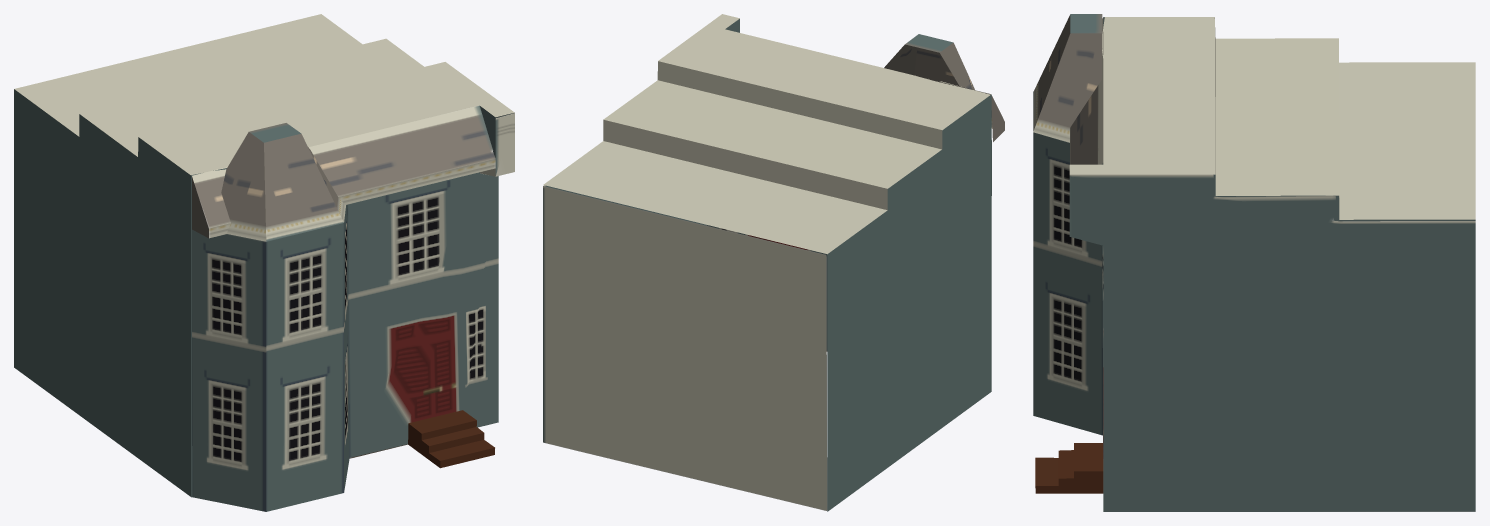
Rendered from House.fbx.
The picture shows the model from 3 angles, left to right: view 1: azimuth 30°, elevation 25°; view 2: azimuth 150°, elevation 25°; view 3: azimuth 270°, elevation 25°; orthographic projection. The views are drawn at different scales.
Visible parts, largest first — view 1: Cube; view 2: Cube; view 3: Cube.
Part boxes in pixels (bbox=[...]): Cube: bbox=[14, 14, 514, 511]; Cube: bbox=[543, 14, 1004, 511]; Cube: bbox=[1033, 14, 1475, 511].
Size of the model in its own units: 2 by 2.19 by 2.38.
